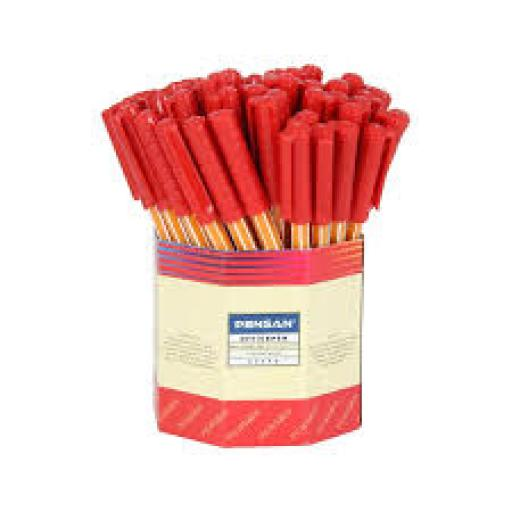tukenmez-kalem: (60, 50, 498, 348)
